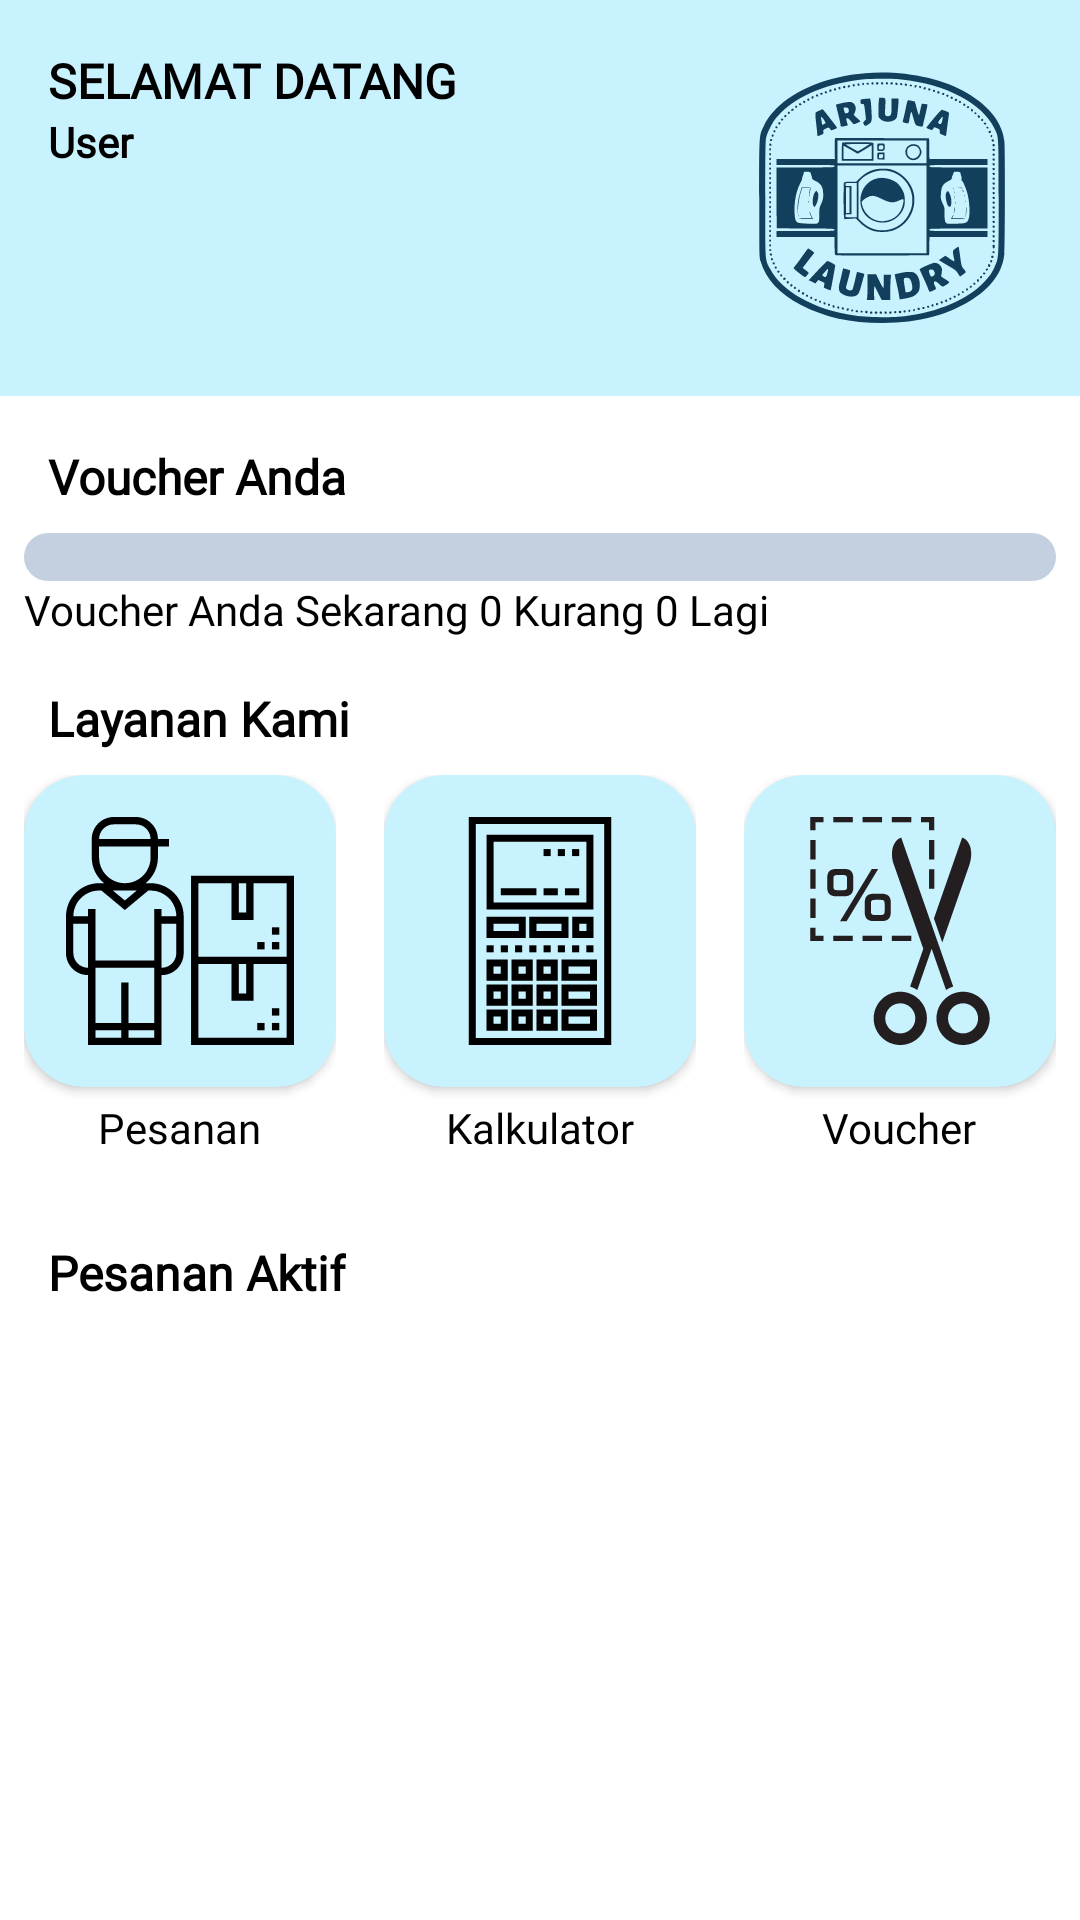

Where to tap for icons on this 1080 × 1920 app screen, as (x=x, y=y):
delivery man box: (x=180, y=931)
